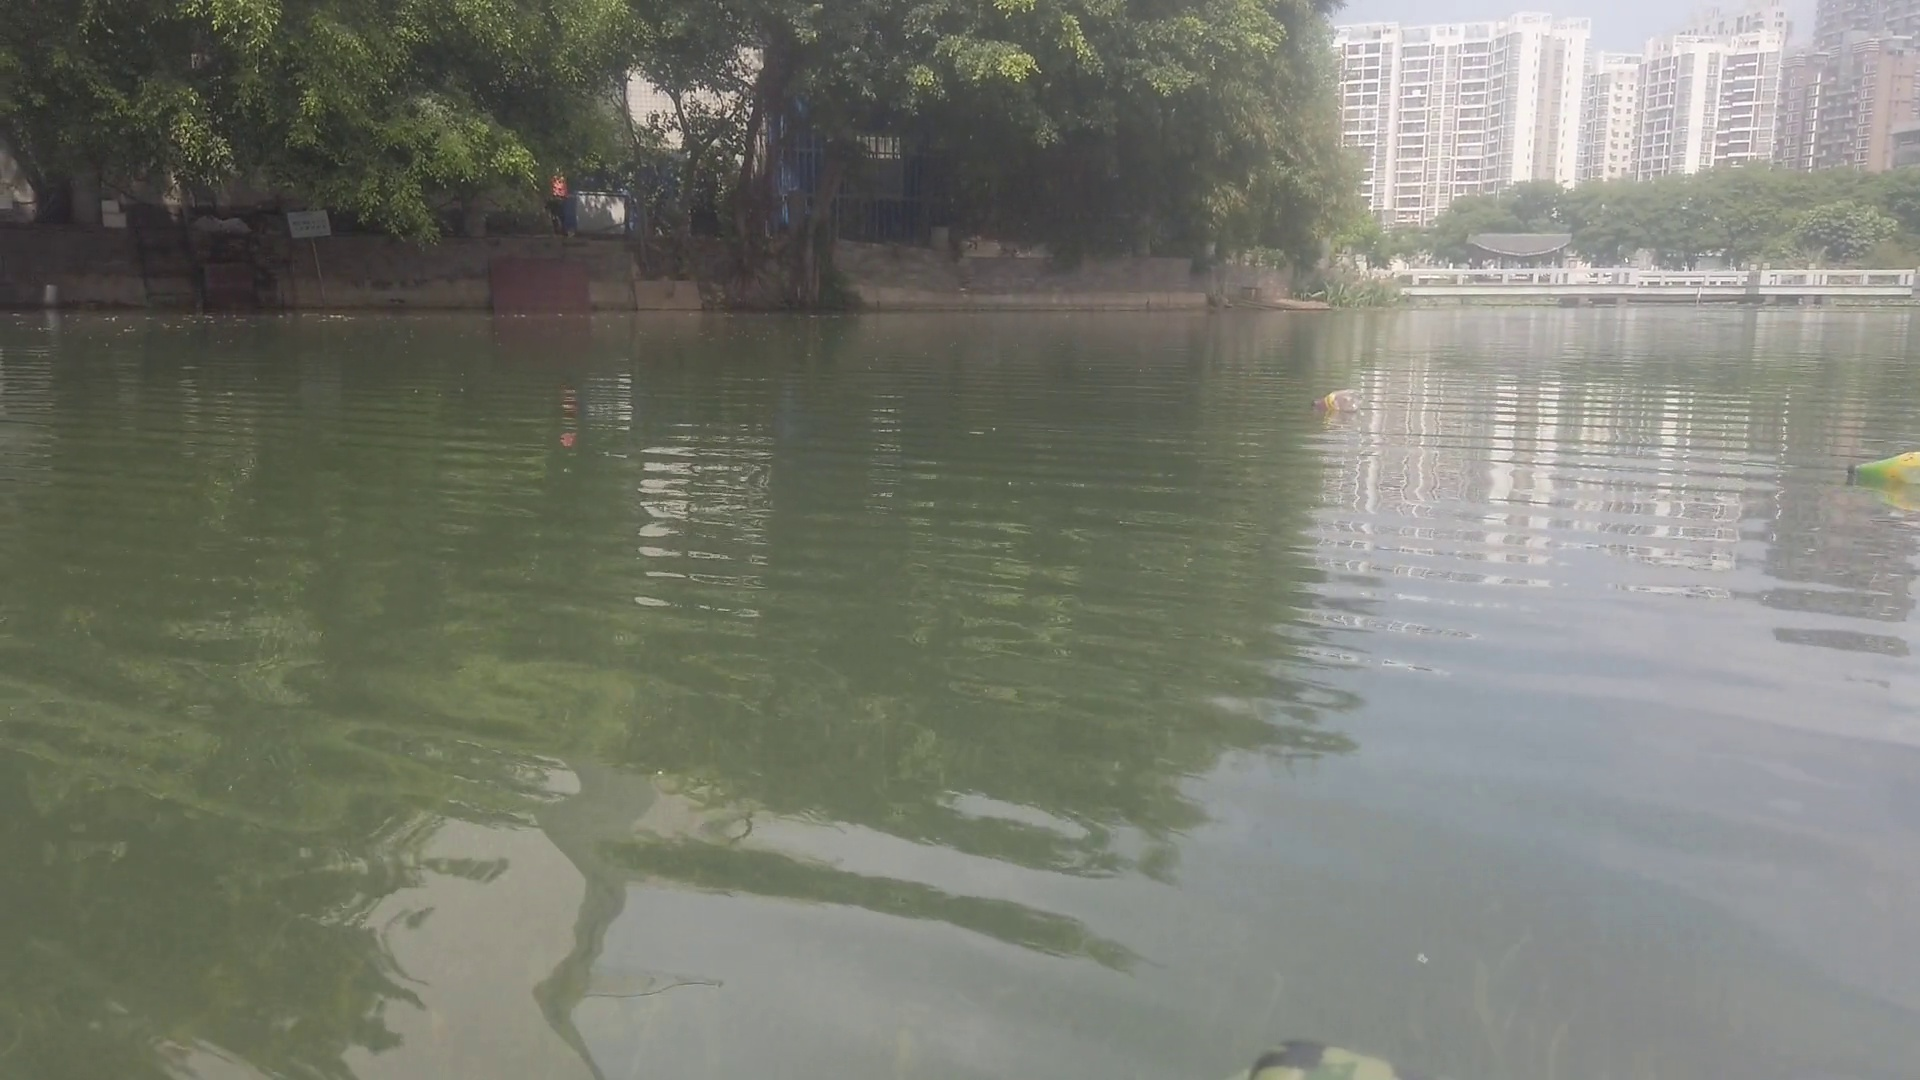bottle: (1847, 448, 1920, 483), (1309, 385, 1362, 411)
